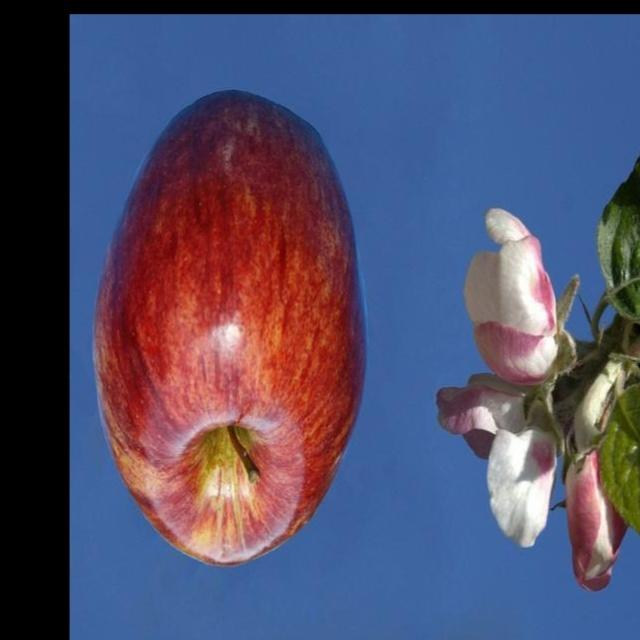red apple: (90, 91, 363, 569)
